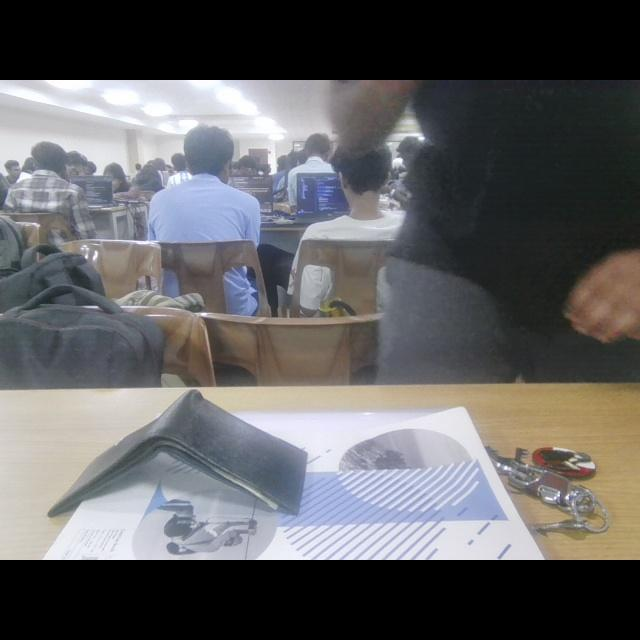keys: (482, 413, 630, 551)
wallet: (44, 366, 340, 528)
